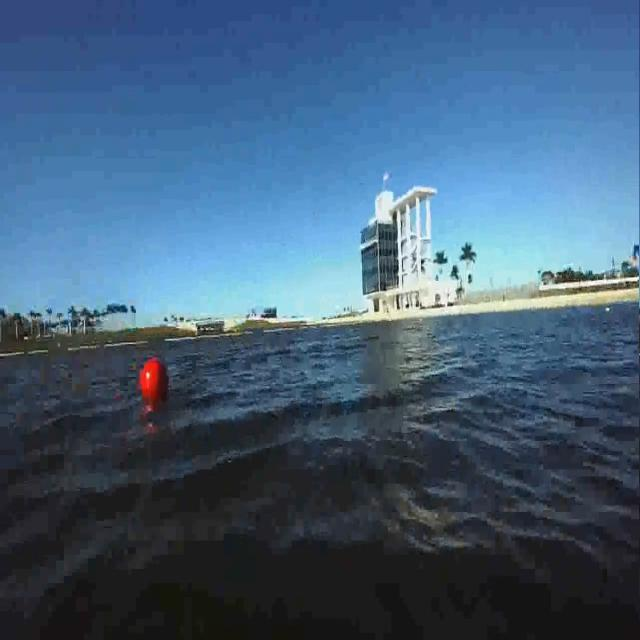red-buoy: (140, 358, 168, 404)
